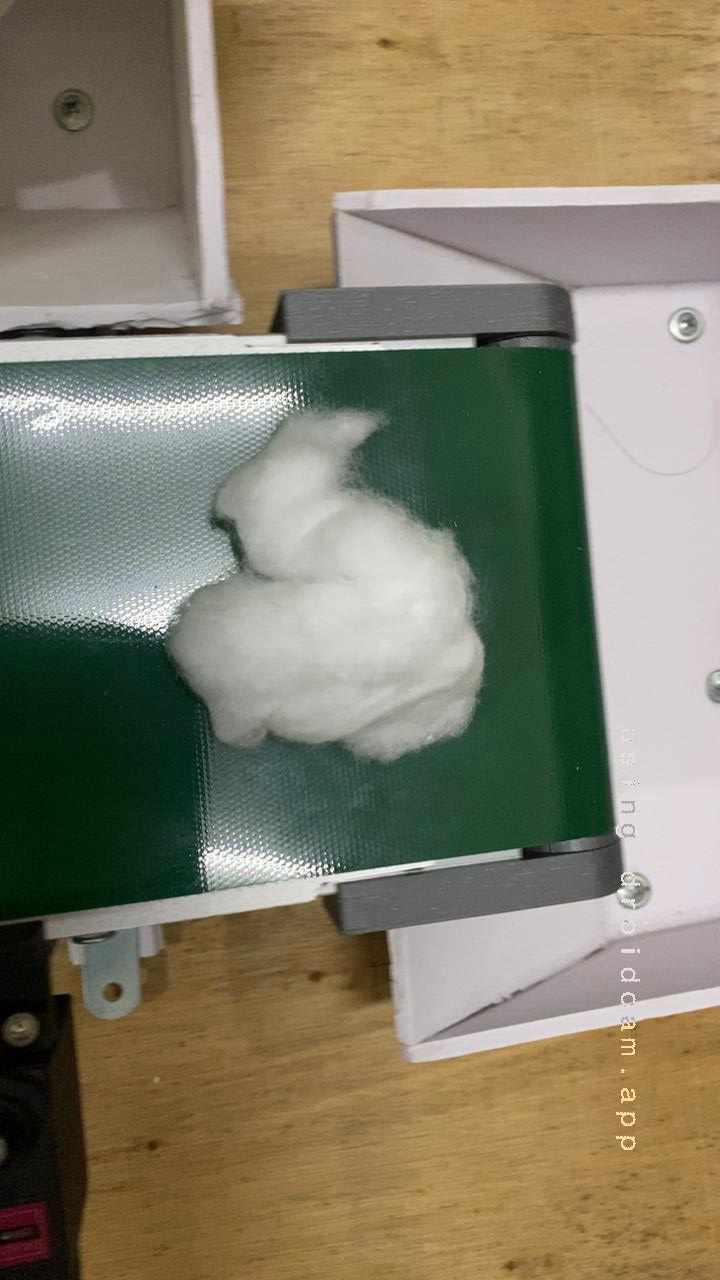cotton: (139, 380, 532, 783)
